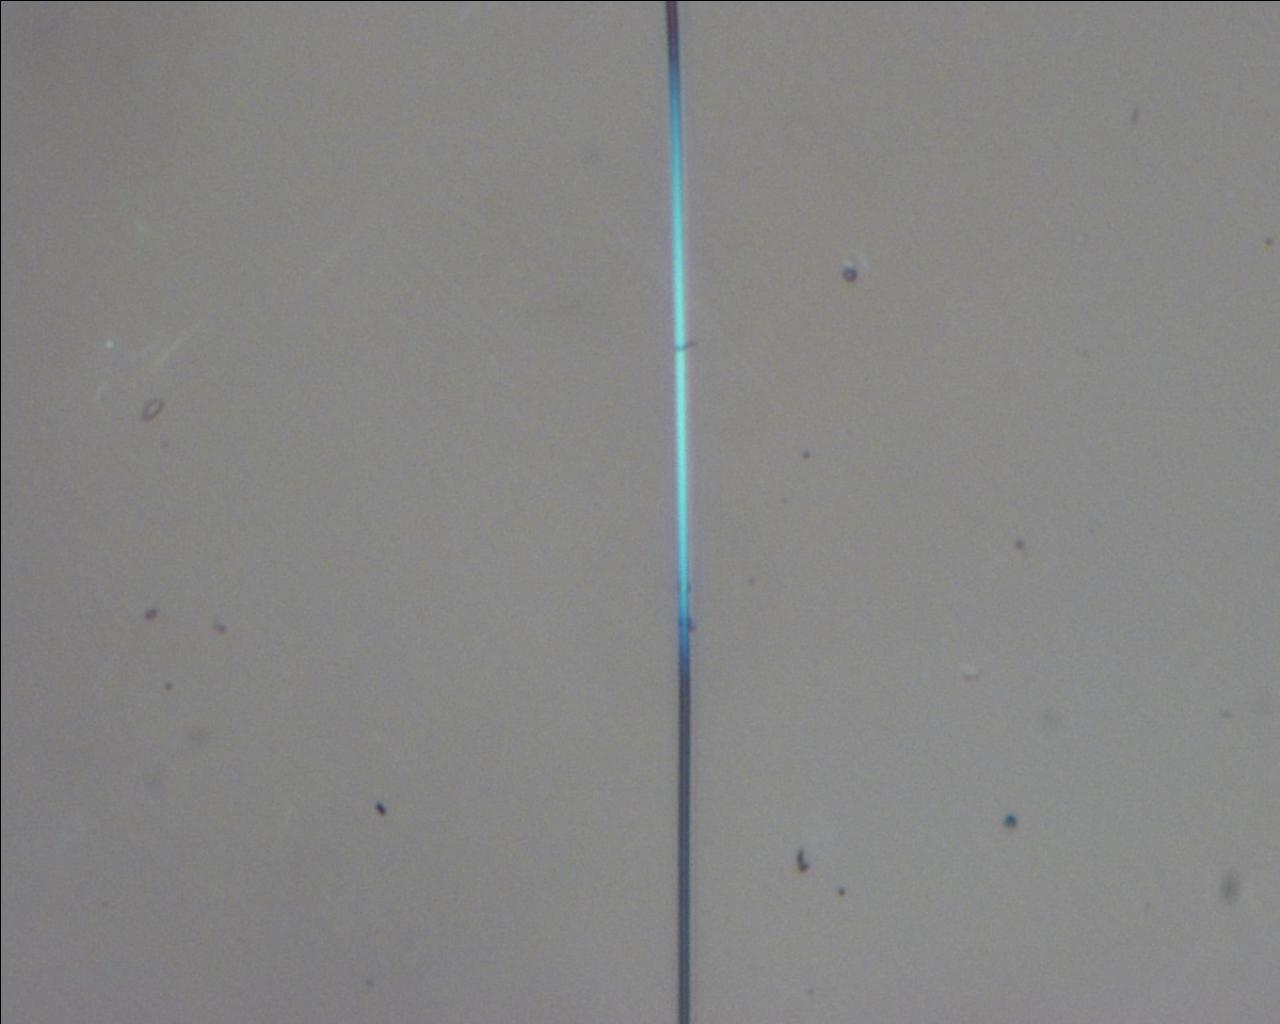fiber: (665, 0, 690, 1024)
